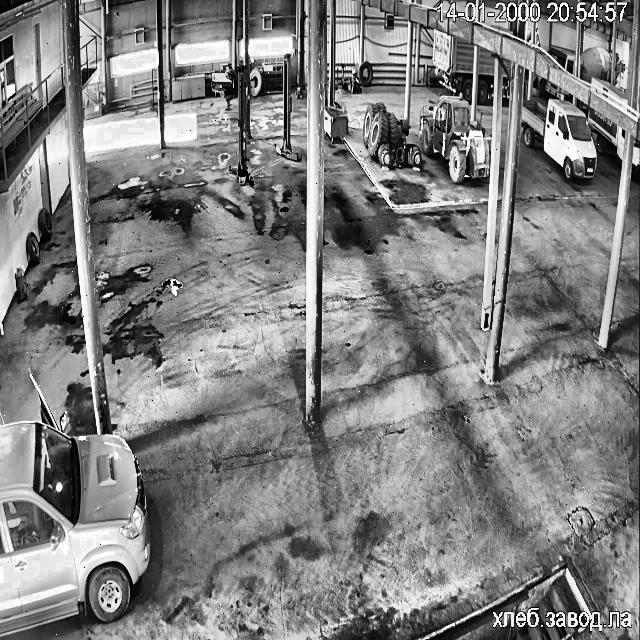car: (0, 375, 150, 636), (60, 415, 68, 424)
car lift: (229, 66, 252, 185), (275, 52, 298, 161)
fire extinguisher: (15, 268, 26, 300)
tractor: (420, 94, 489, 182), (362, 102, 420, 166)
truck: (523, 100, 596, 180), (432, 28, 473, 100), (588, 108, 624, 157), (580, 46, 610, 82), (476, 48, 494, 102), (592, 78, 628, 102), (538, 77, 572, 100), (548, 45, 574, 73), (632, 140, 640, 177), (500, 78, 508, 97), (505, 60, 510, 70), (618, 61, 619, 66)
